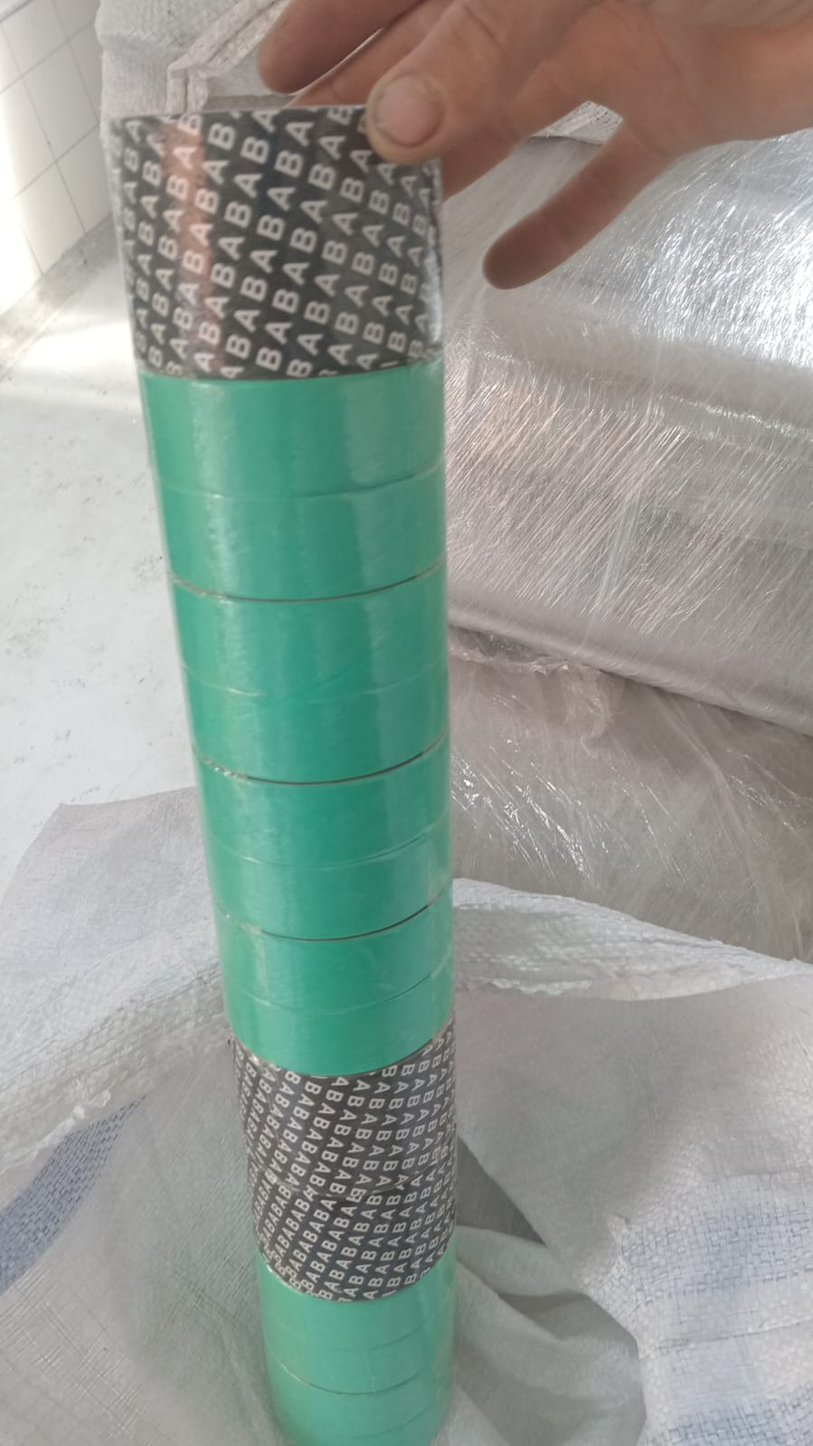Ordinario: (115, 111, 454, 1444)
